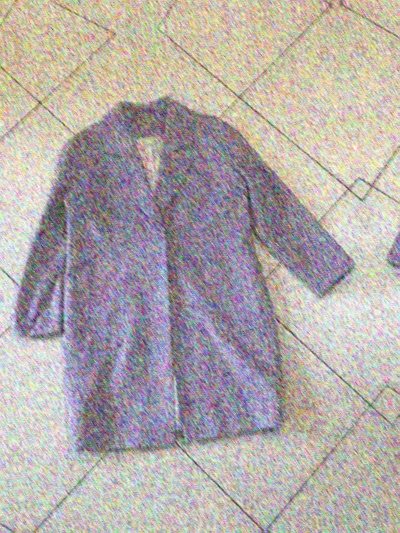Blazer: (0, 53, 377, 480), (360, 1, 400, 429), (0, 103, 6, 530), (0, 0, 312, 7)
